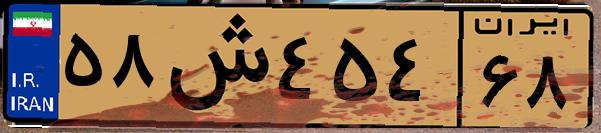4: (270, 28, 330, 110), (385, 28, 445, 110)
5: (330, 28, 385, 110), (57, 26, 110, 100)
6: (475, 38, 525, 113)
8: (525, 38, 570, 115), (110, 28, 158, 98)
ش: (158, 12, 270, 120)
